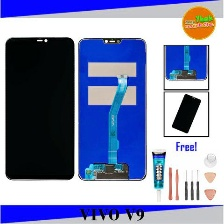phone: (2, 32, 76, 181), (77, 36, 148, 182), (170, 92, 203, 134)
